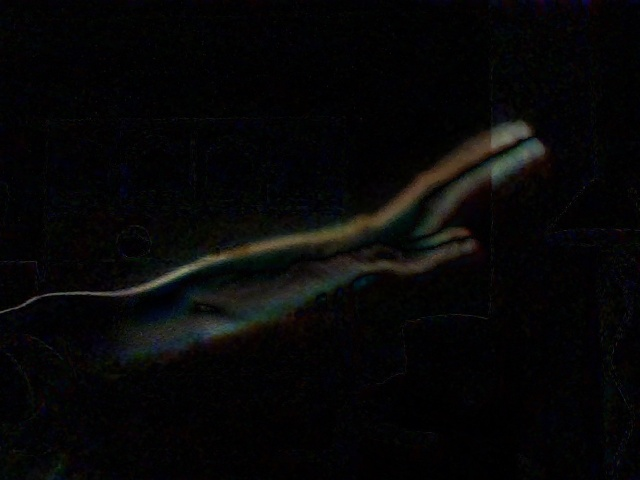hand_pa: (378, 102, 558, 275)
